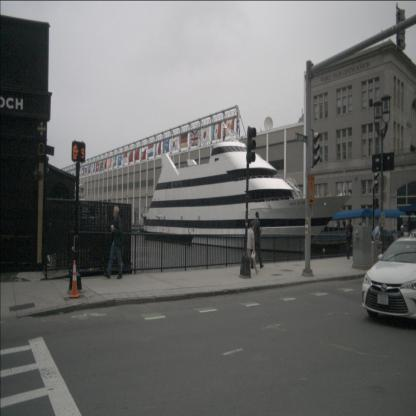human-pedestrian-adult: (103, 206, 123, 279), (250, 212, 264, 269), (246, 222, 259, 274), (372, 222, 382, 266), (344, 218, 354, 260), (398, 225, 407, 262), (392, 227, 399, 262)
movable_object-trafficcone: (68, 259, 80, 298)
vehicle-car: (361, 236, 416, 330)
